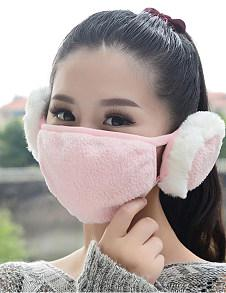OK: (43, 79, 155, 222)
